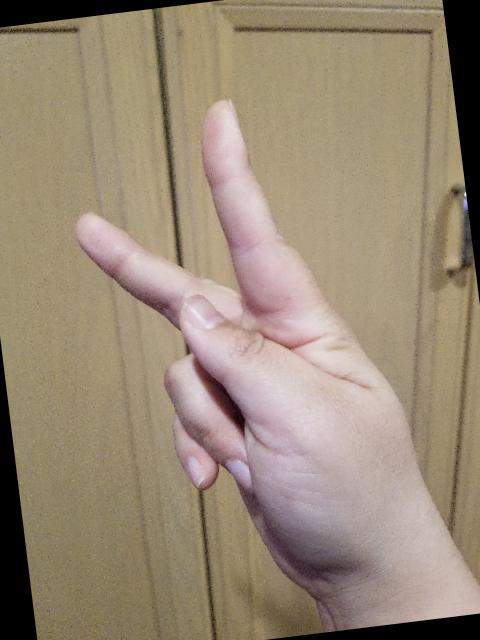K: (54, 69, 444, 619)
